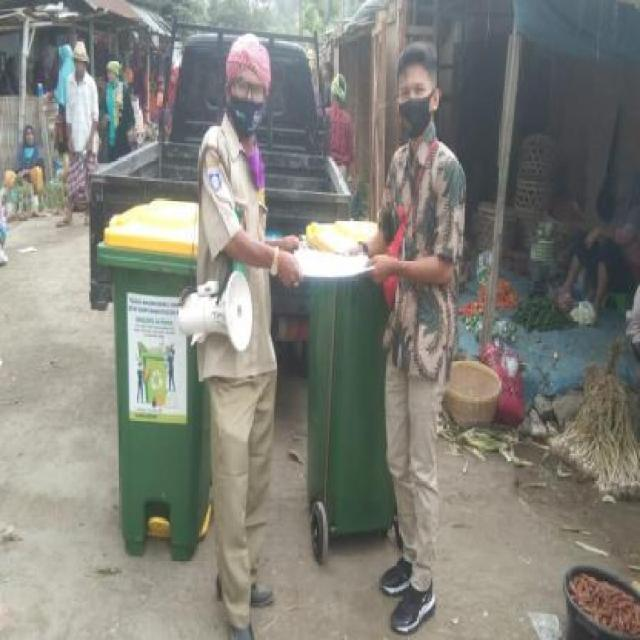garbage container: (96, 191, 219, 566), (302, 213, 402, 565)
